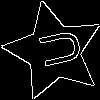U: (29, 26, 83, 72)
